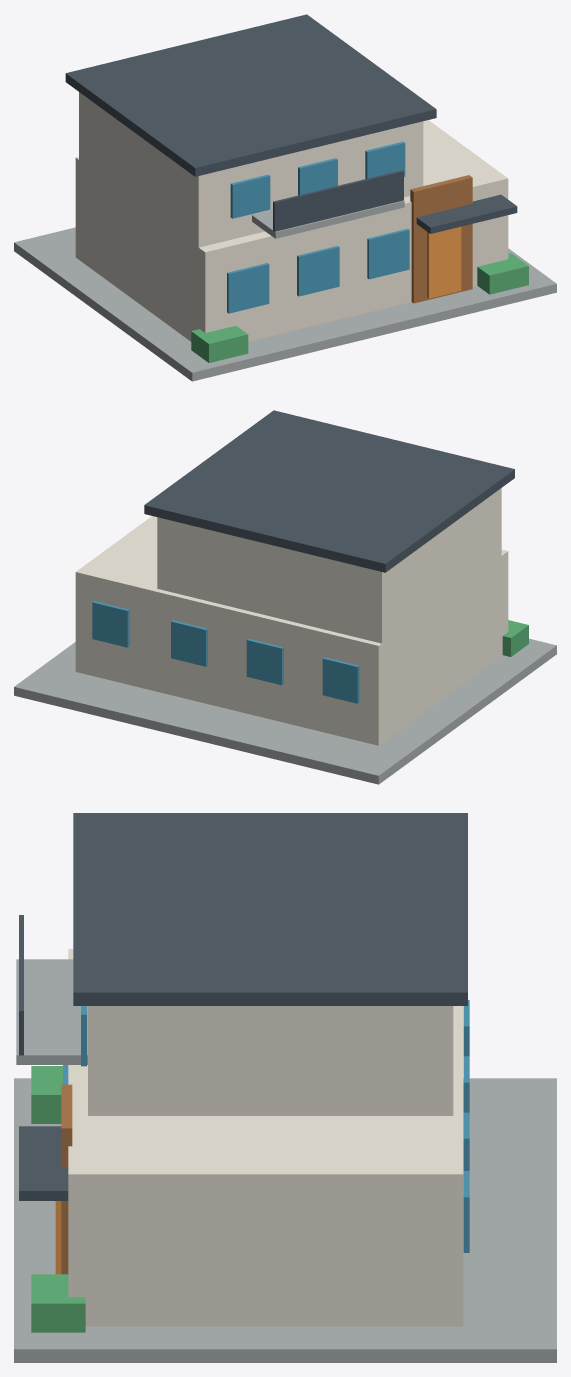
Rendered from sitecraft-modern-house.glb.
The picture shows the model from 3 angles, top to bottom: view 1: azimuth 30°, elevation 25°; view 2: azimuth 150°, elevation 25°; view 3: azimuth 270°, elevation 25°; orthographic projection. The views are drawn at different scales.
Visible parts, largest first — view 1: Flat roof, Ground floor, Upper floor, Ground slab, Balcony rail, Front timber feature, Front door, Entrance canopy, Ground window 1.1, Ground window -3.9, Ground window -1.4, Planter left (+5 smaller); view 2: Ground floor, Flat roof, Upper floor, Ground slab, Rear window -4.1, Rear window 4.1, Rear window -1.4, Rear window 1.3, Planter left; view 3: Ground floor, Flat roof, Ground slab, Upper floor, Balcony deck, Entrance canopy, Planter right, Planter left, Front timber feature, Balcony rail.
Part boxes in pixels (x1,y1,x2,y2): Flat roof: [65, 14, 436, 176]; Ground floor: [75, 120, 508, 341]; Upper floor: [79, 92, 423, 247]; Ground slab: [14, 227, 556, 381]; Balcony rail: [273, 170, 403, 231]; Front timber feature: [410, 175, 472, 303]; Front door: [427, 226, 461, 298]; Entrance canopy: [416, 194, 517, 233]; Ground window 1.1: [367, 228, 409, 279]; Ground window -3.9: [227, 263, 269, 313]; Ground window -1.4: [297, 246, 339, 296]; Planter left: [191, 325, 248, 362]; Ground floor: [75, 516, 508, 745]; Flat roof: [144, 410, 514, 572]; Upper floor: [157, 488, 501, 643]; Ground slab: [14, 638, 556, 784]; Rear window -4.1: [322, 657, 359, 703]; Rear window 4.1: [92, 601, 129, 647]; Rear window -1.4: [246, 639, 283, 685]; Rear window 1.3: [171, 620, 207, 666]; Planter left: [502, 620, 528, 656]; Ground floor: [68, 949, 463, 1326]; Flat roof: [73, 813, 467, 1005]; Ground slab: [14, 1078, 556, 1362]; Upper floor: [88, 1006, 453, 1115]; Balcony deck: [16, 959, 87, 1064]; Entrance canopy: [19, 1126, 68, 1200]; Planter right: [31, 1274, 85, 1332]; Planter left: [31, 1066, 62, 1123]; Front timber feature: [61, 1084, 72, 1274]; Balcony rail: [19, 915, 23, 1055].
Bounding box in the file's own units: 13 × 6.6 × 11.
